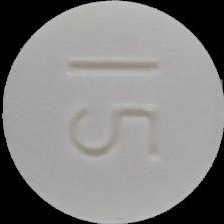61786-564: (0, 0, 224, 224)
